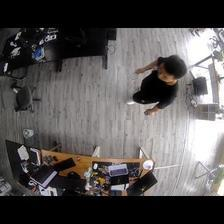normal: (127, 55, 185, 118)
